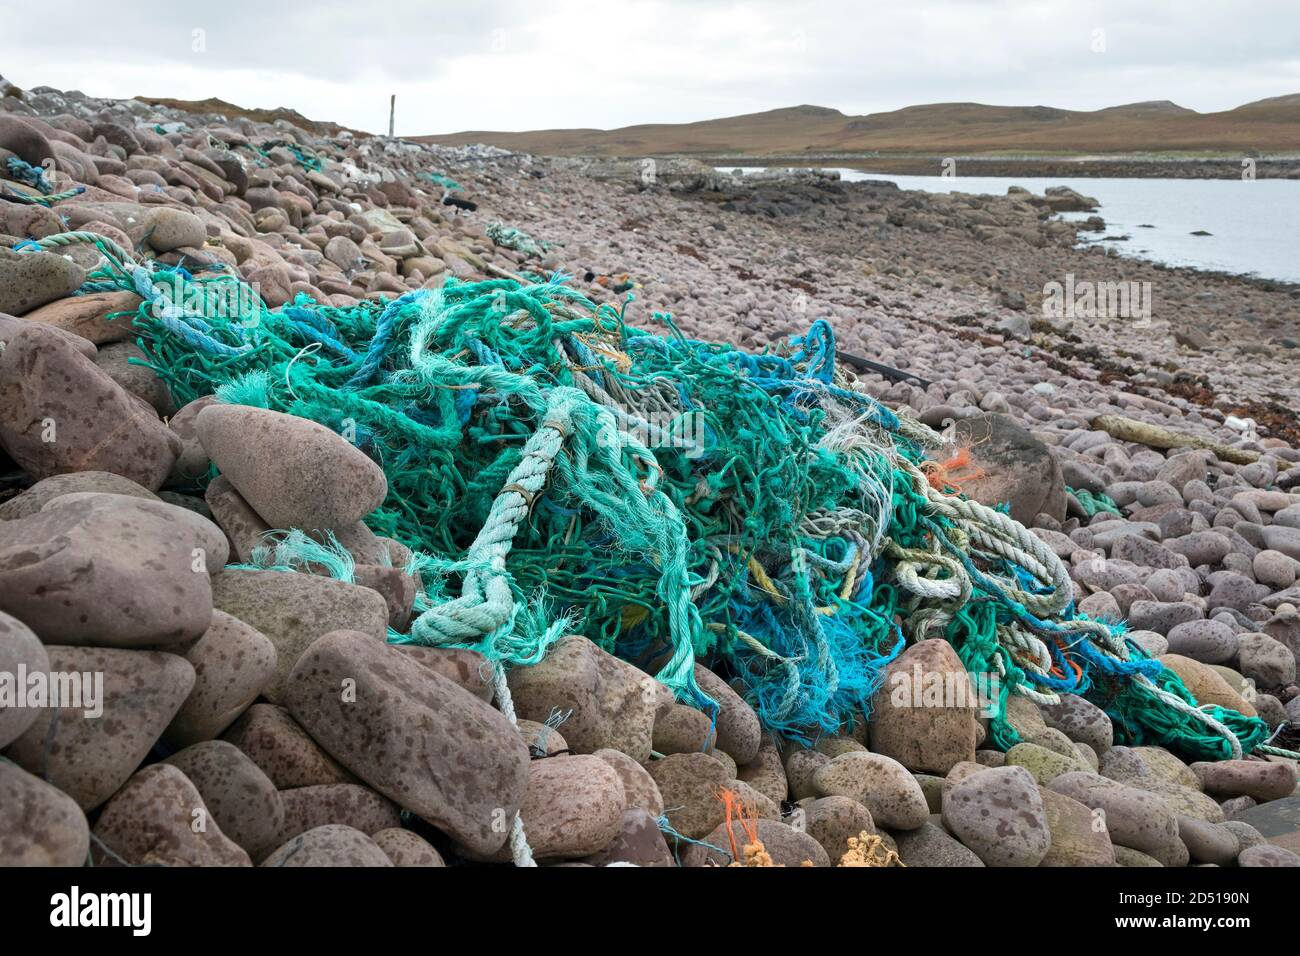fishingnet: (75, 246, 1264, 755)
